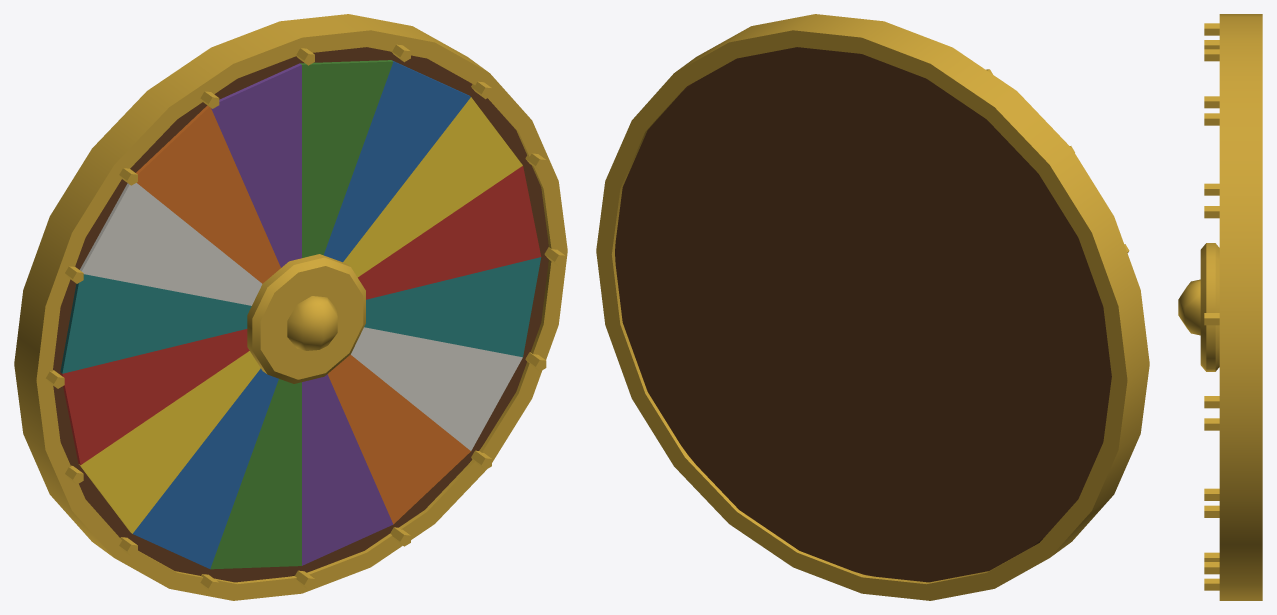
The model's file is 405_piece_roue_roue.fbx.
The picture shows the model from 3 angles, left to right: view 1: azimuth 30°, elevation 25°; view 2: azimuth 150°, elevation 25°; view 3: azimuth 270°, elevation 25°; orthographic projection. The views are drawn at different scales.
Parts seen in each view (by area): view 1: Roue; view 2: Roue; view 3: Roue.
Part boxes in pixels (<box>): Roue: <box>14,14,567,600</box>; Roue: <box>596,14,1149,600</box>; Roue: <box>1178,14,1262,600</box>.
Bounding box in the file's own units: 1.96 × 1.96 × 0.28.
1 material, 1 textured.
